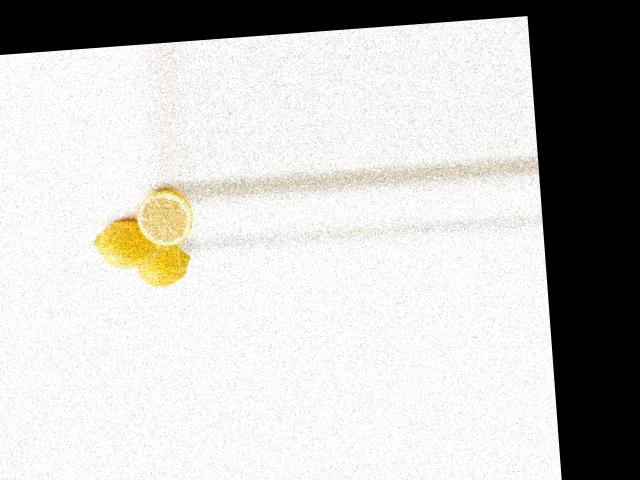lemon: (131, 241, 195, 290)
